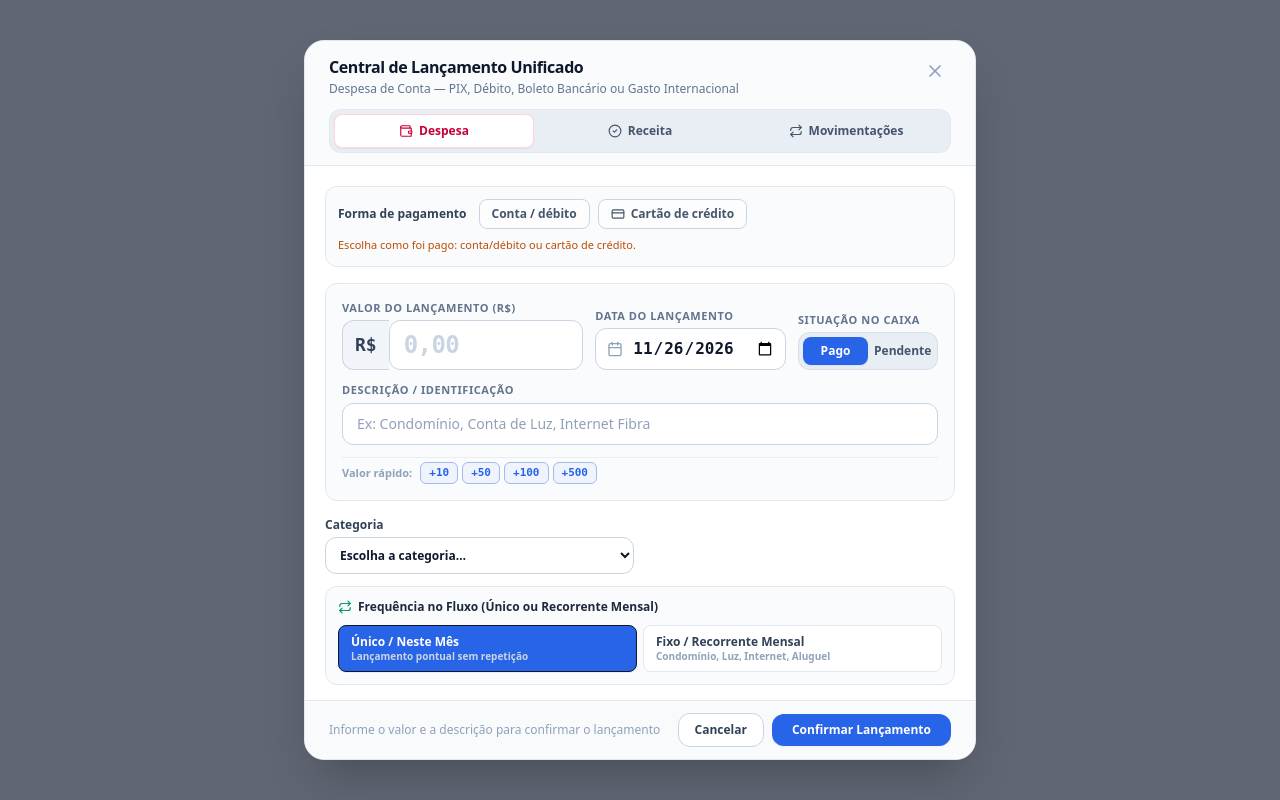
Test: expense category and account selectors have associated labels and there is no subcategory field
Click the button with test id "payment-method-account".
click(534, 214)  # box [478,199,590,229]
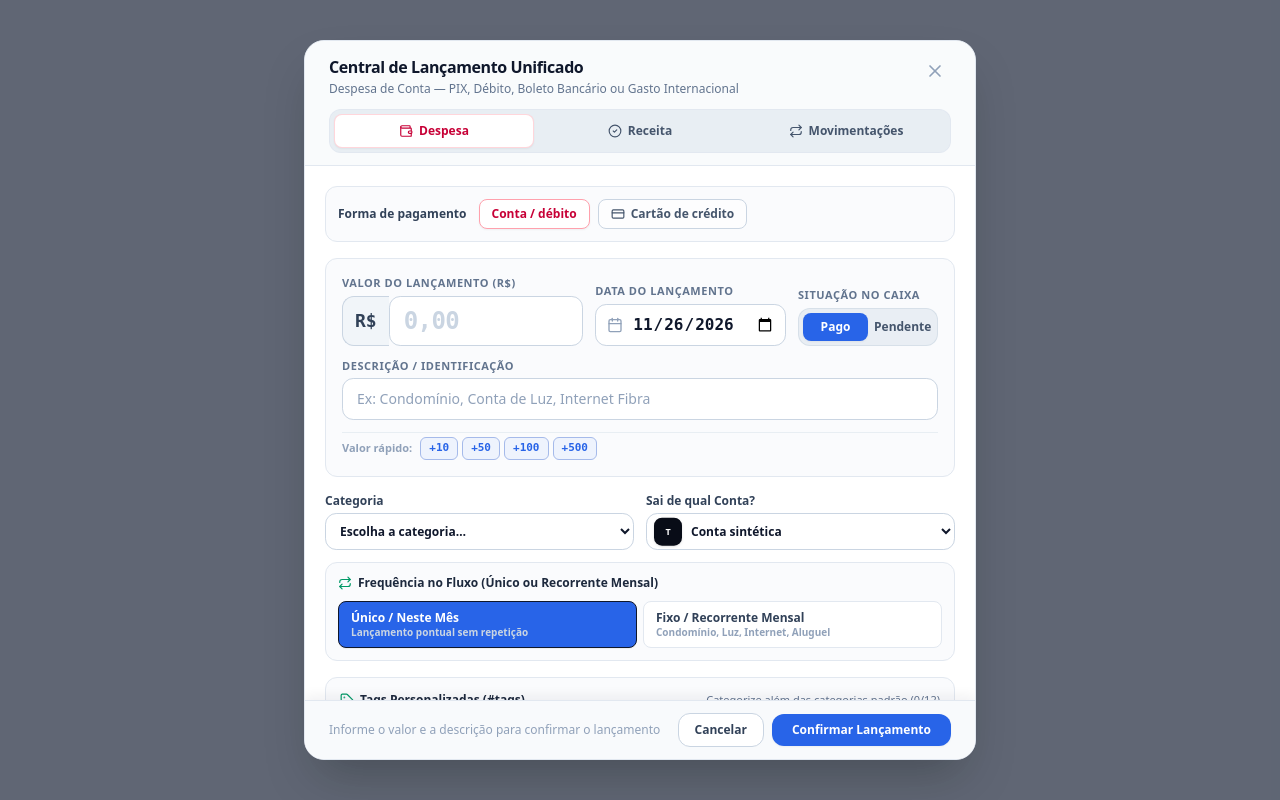
Expected: the dropdown with id "tx-category-select" is shown, [325,512,634,550]
Expected: the dropdown with id "tx-payment-source-select" is shown, [646,512,955,550]
